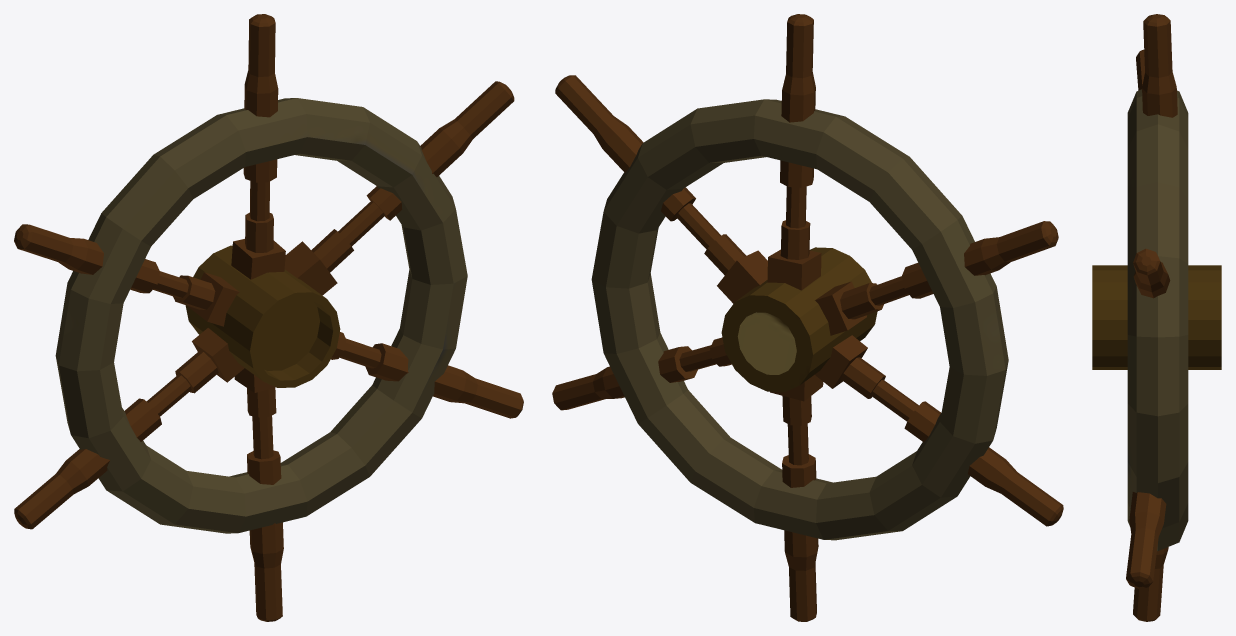
Rendered from timón.glb.
The picture shows the model from 3 angles, left to right: view 1: azimuth 30°, elevation 25°; view 2: azimuth 150°, elevation 25°; view 3: azimuth 270°, elevation 25°; orthographic projection.
Parts seen in each view (by area): view 1: TIMON; view 2: TIMON; view 3: TIMON.
Part boxes in pixels (x1=…): TIMON: x1=14, y1=14, x2=523, y2=621; TIMON: x1=552, y1=14, x2=1063, y2=621; TIMON: x1=1092, y1=14, x2=1221, y2=621.
Size of the model in its own units: 0.7827 by 0.8939 by 0.1744.
1 material, 1 textured.
